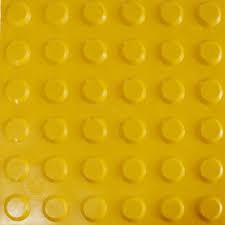block(point type): (2, 1, 220, 225)
